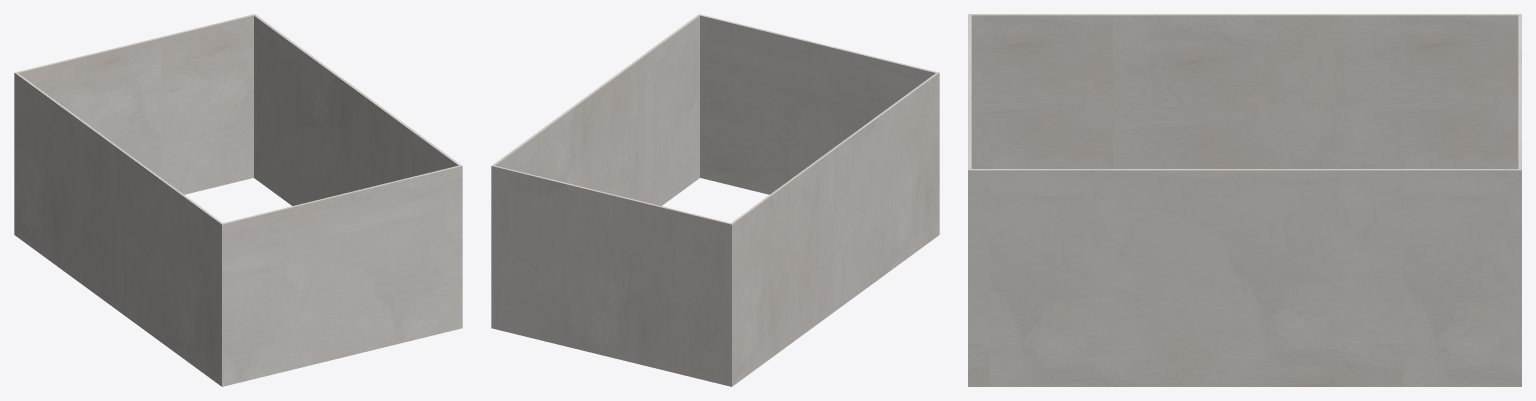
The model's file is aws_robomaker_warehouse_WallB_01_visual.DAE.
3 views of the same model, side by side, from view 1: azimuth 30°, elevation 25°; view 2: azimuth 150°, elevation 25°; view 3: azimuth 270°, elevation 25° (orthographic). The views are drawn at different scales.
Parts seen in each view (by area): view 1: aws_robomaker_warehouse_WallB_01_visual; view 2: aws_robomaker_warehouse_WallB_01_visual; view 3: aws_robomaker_warehouse_WallB_01_visual.
Boxes of the visible parts, left/top/right/bottom form: aws_robomaker_warehouse_WallB_01_visual: left=14, top=14, right=462, bottom=386; aws_robomaker_warehouse_WallB_01_visual: left=491, top=14, right=939, bottom=386; aws_robomaker_warehouse_WallB_01_visual: left=968, top=14, right=1521, bottom=386.
Bounding box in the file's own units: 1398 × 2091 × 902.
